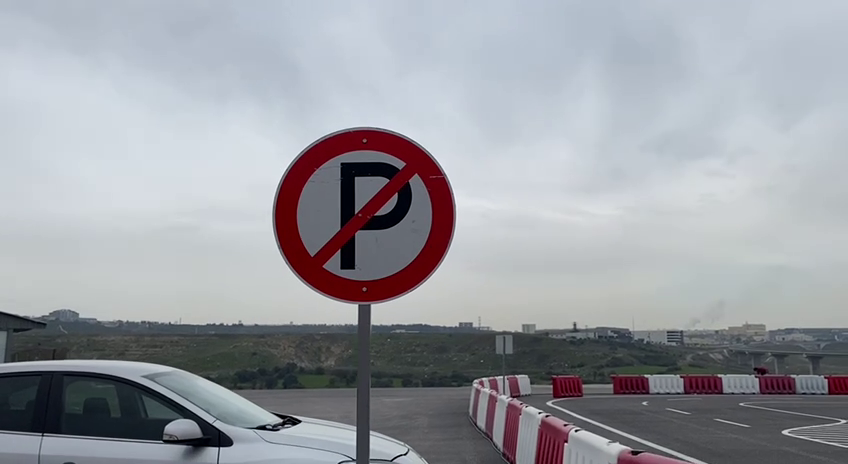noparking: (262, 114, 465, 318)
